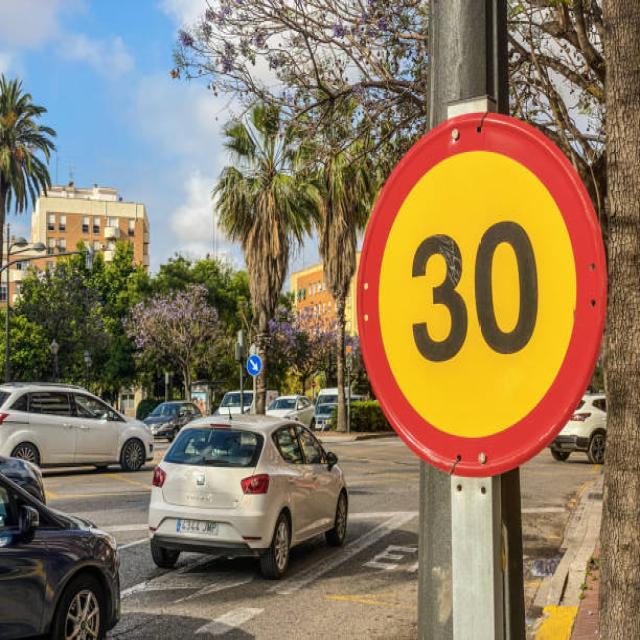Speed limit 30: (353, 108, 611, 481)
